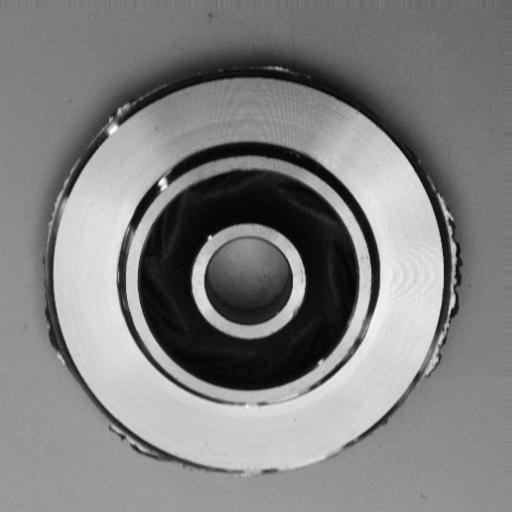casting_with_burr: (38, 60, 463, 483)
scratch: (113, 215, 140, 326), (230, 383, 314, 415), (145, 161, 184, 207)
